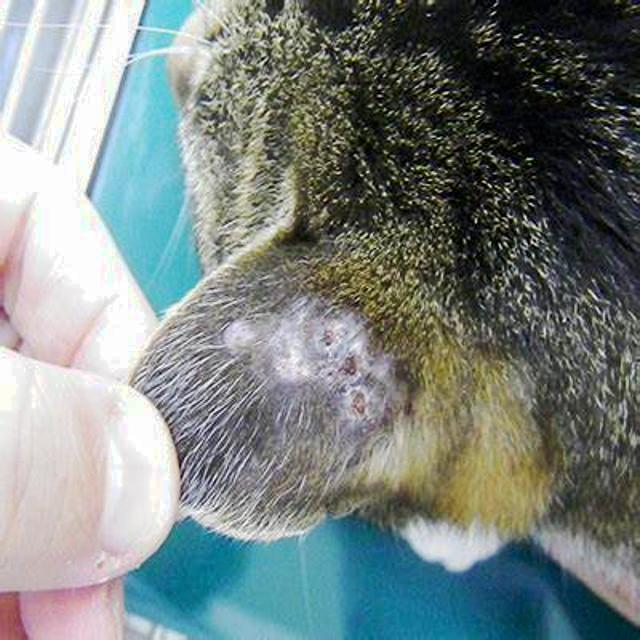ringworm: (225, 297, 394, 422)
